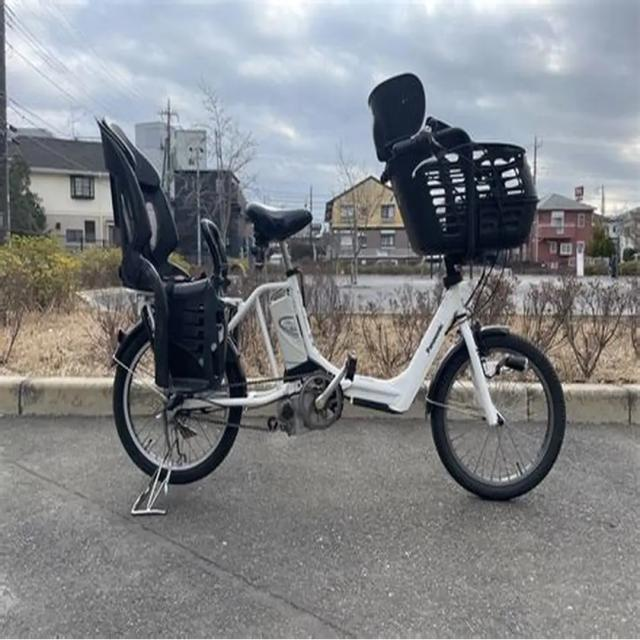battery: (269, 288, 311, 370)
childseat: (96, 108, 234, 392)
